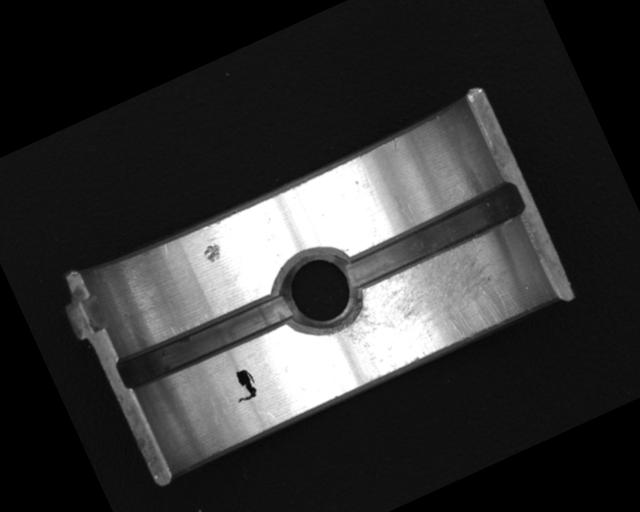blot: (225, 365, 262, 405)
bruise: (201, 240, 226, 265)
gap: (338, 176, 530, 294), (116, 286, 296, 394)
hole: (266, 237, 373, 347)
scratch: (330, 226, 537, 384)
